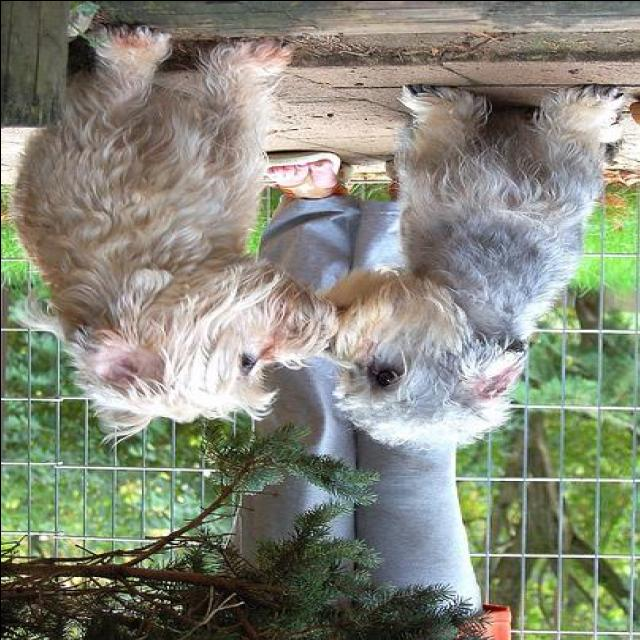dandie_dinmont: (11, 21, 341, 446), (308, 82, 628, 452)
